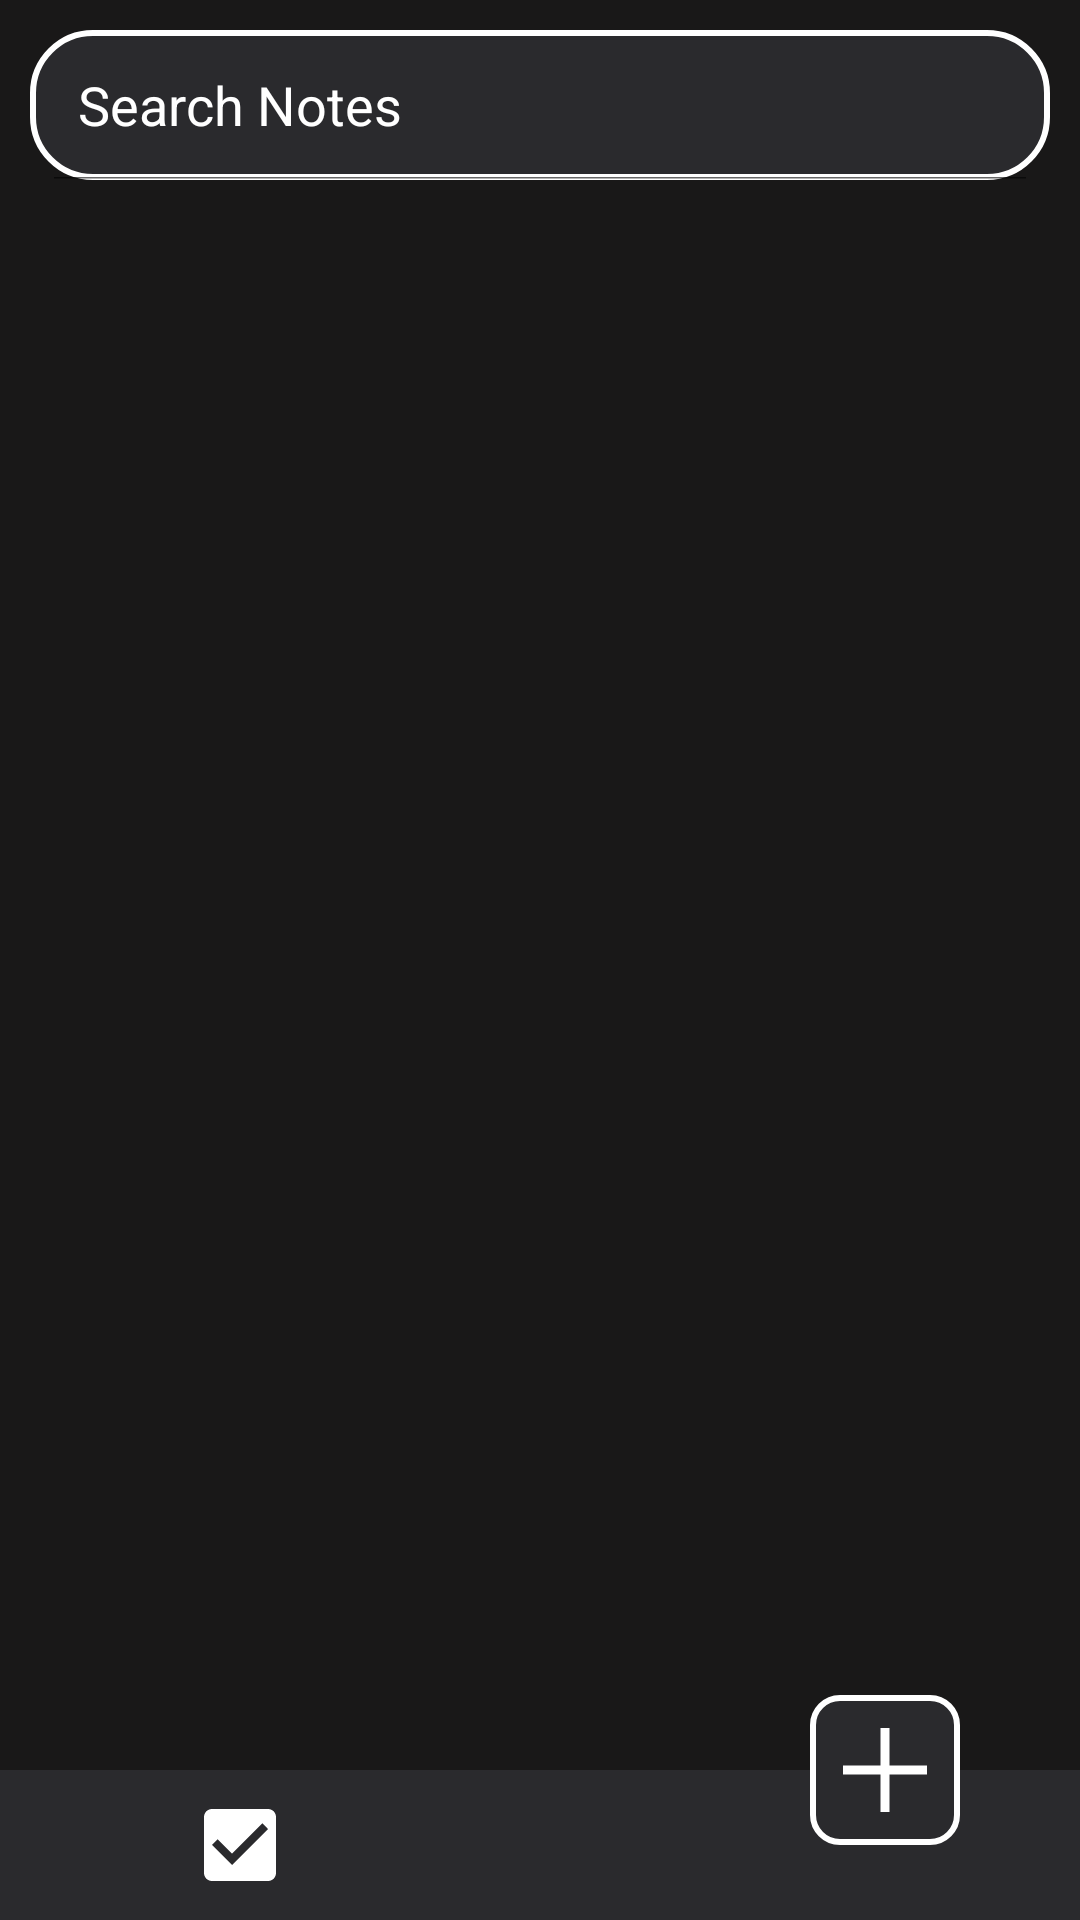

Screen size 1080px x 1920px. Icon name, then its center in pixels as (x=x, y=y):
add note: (x=885, y=1770)
check: (x=240, y=1845)
